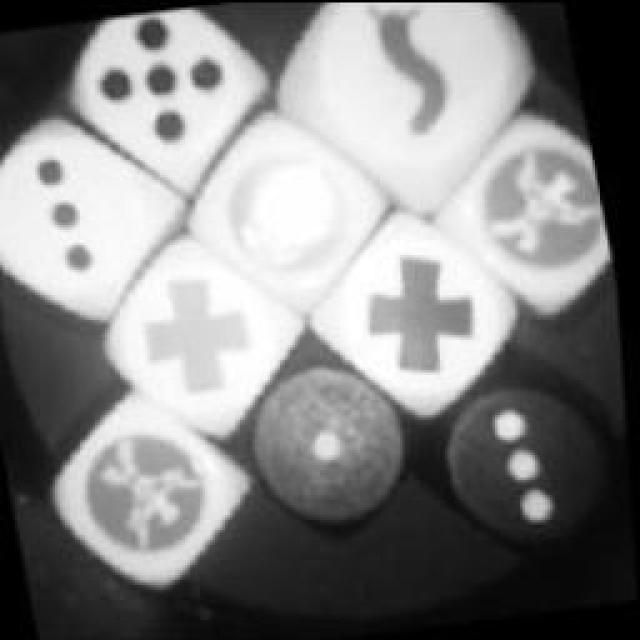dice_1: (210, 318, 448, 550)
dice_3: (400, 325, 638, 583), (0, 105, 210, 340)
dice_5: (45, 0, 303, 215)
